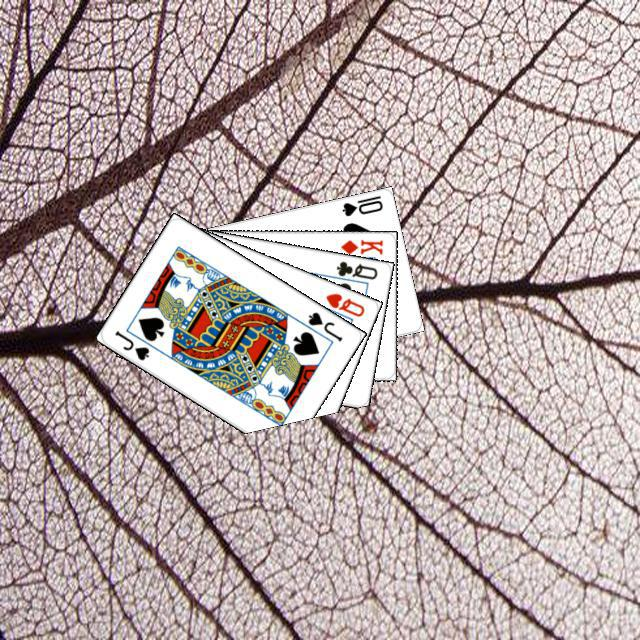10s: (337, 190, 384, 218)
Js: (110, 325, 151, 362), (303, 307, 344, 343)
Kd: (336, 235, 384, 256)
Qc: (326, 256, 379, 288)
Qh: (320, 288, 366, 319)
